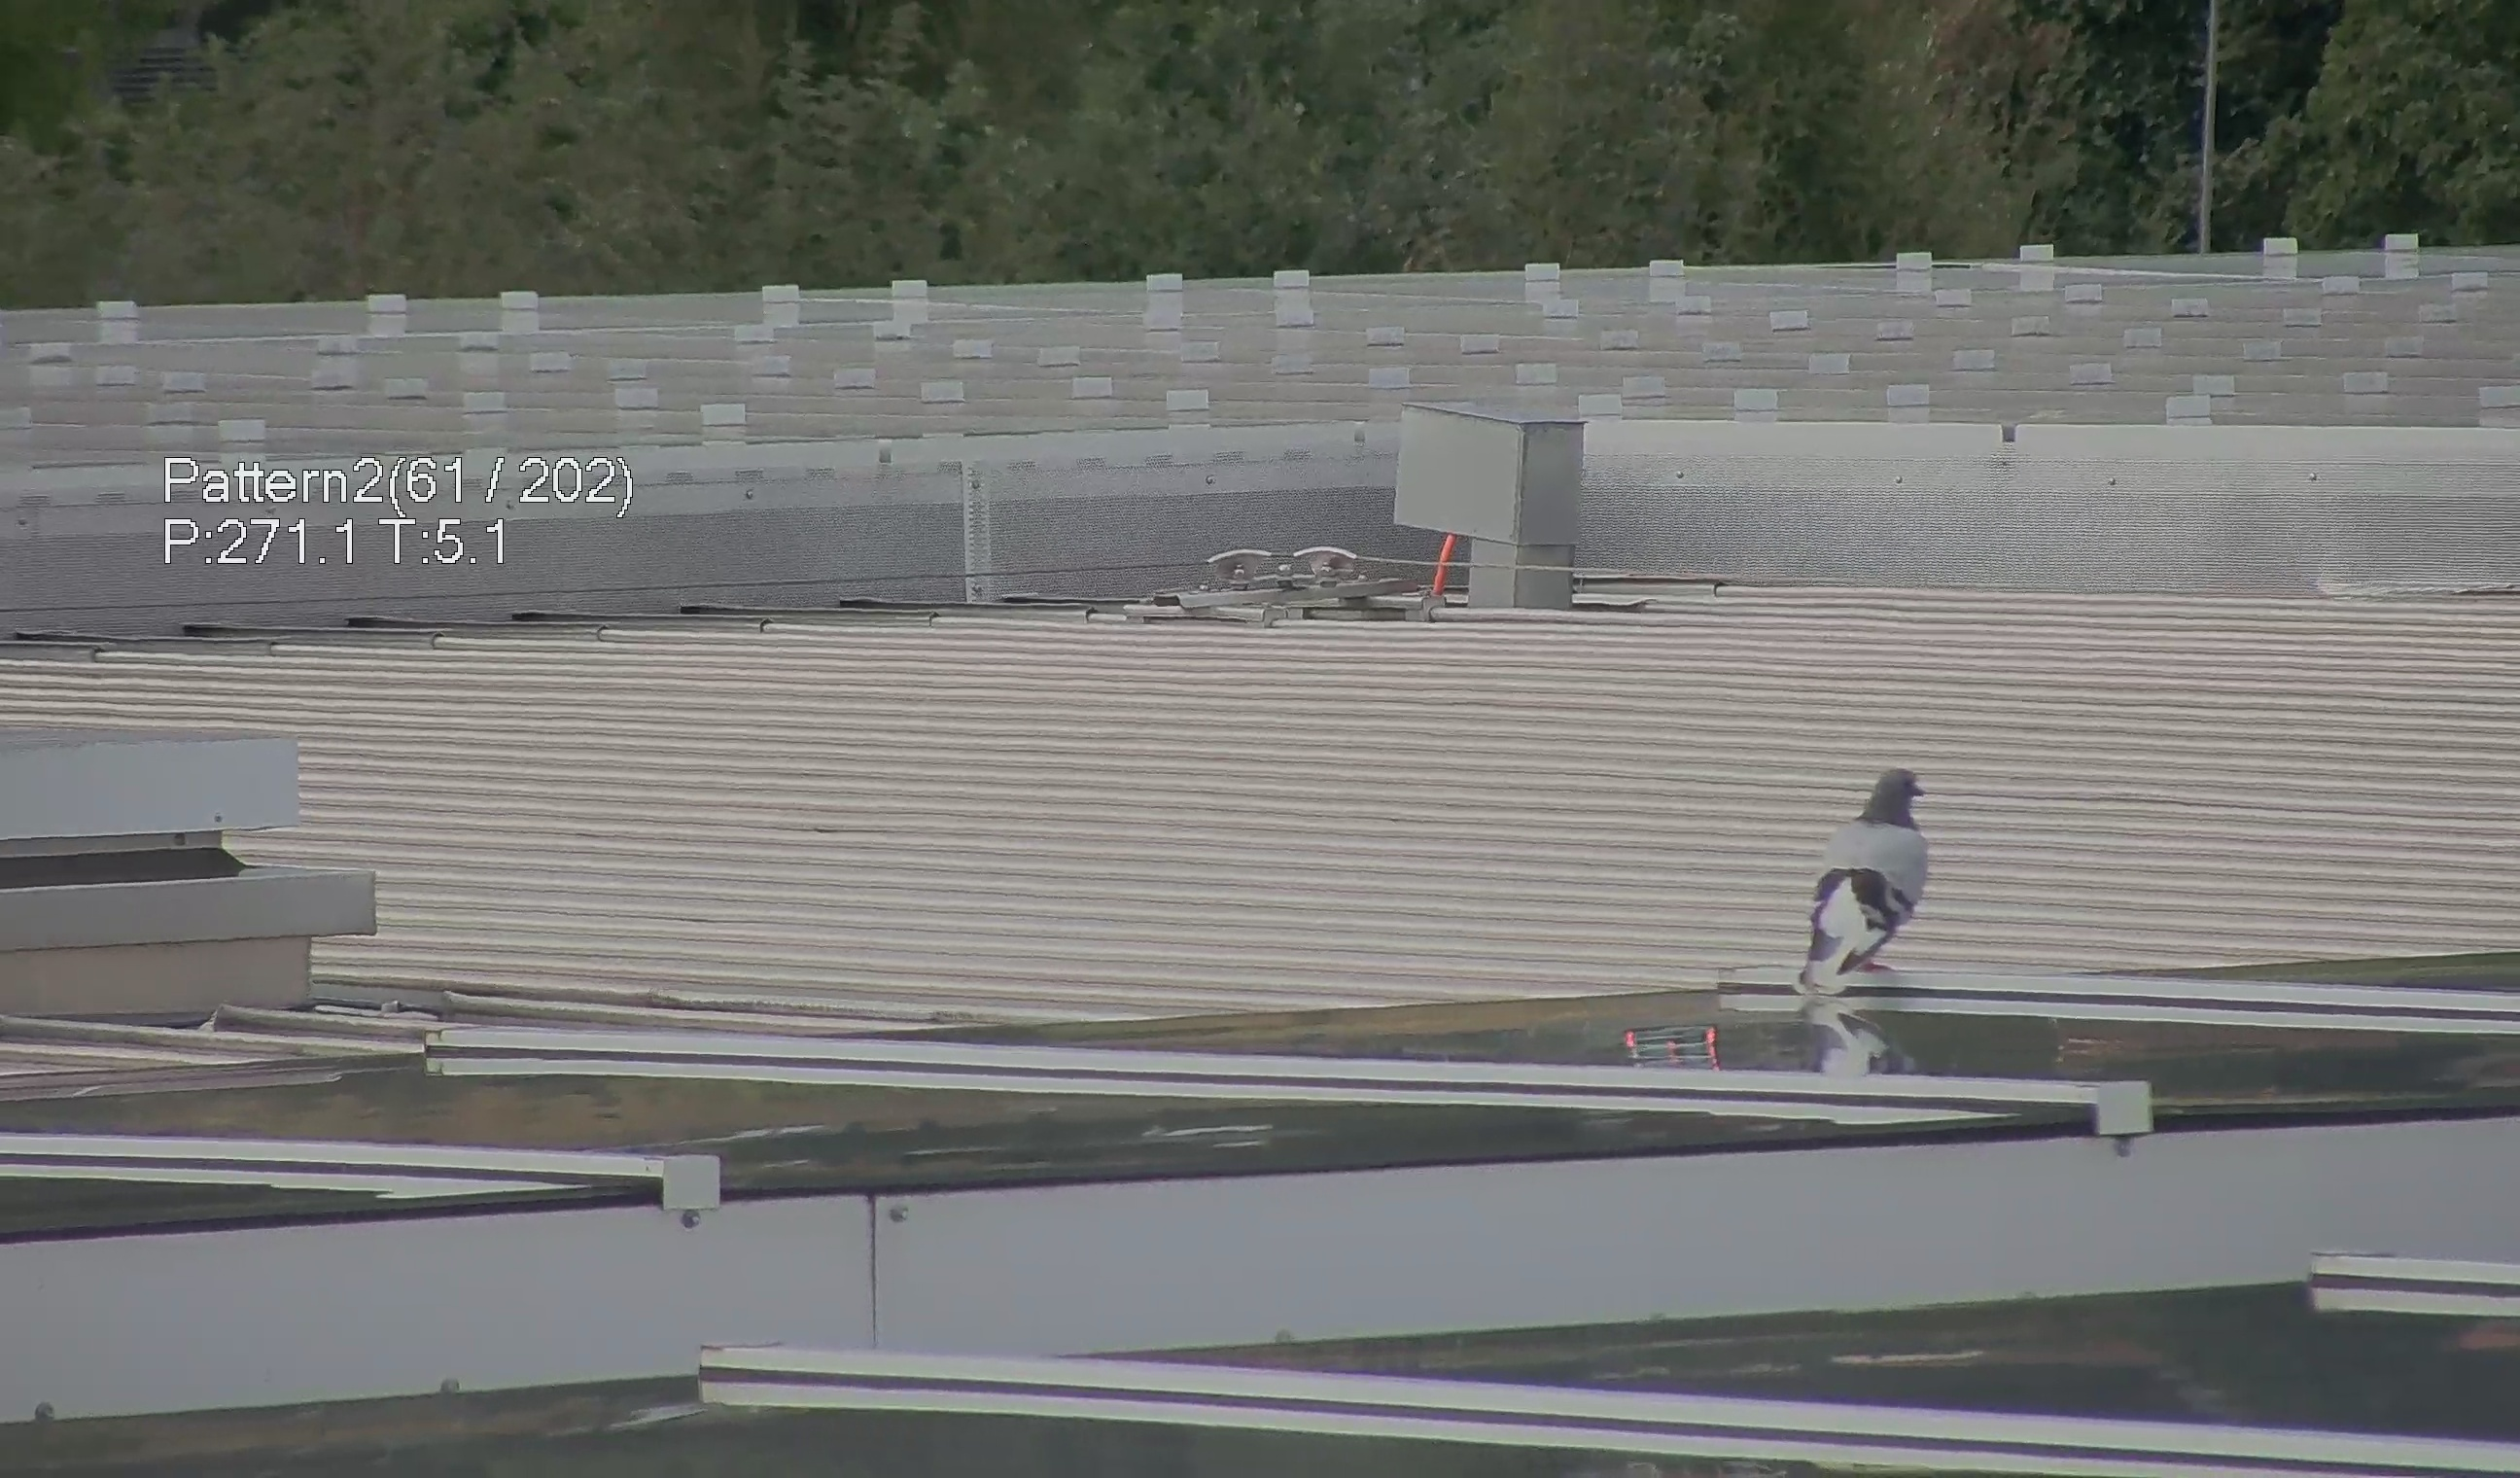Pigeon: (1806, 760, 1952, 994)
